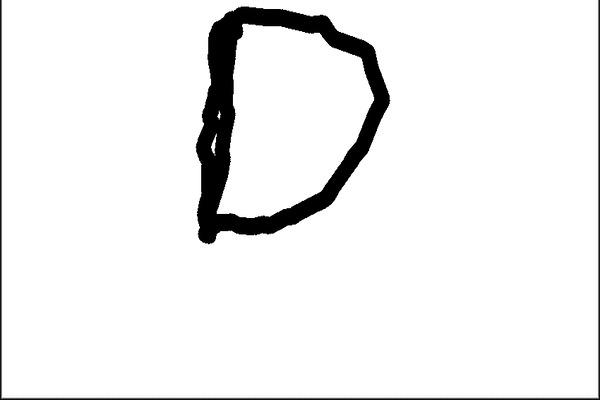D: (193, 2, 394, 248)
